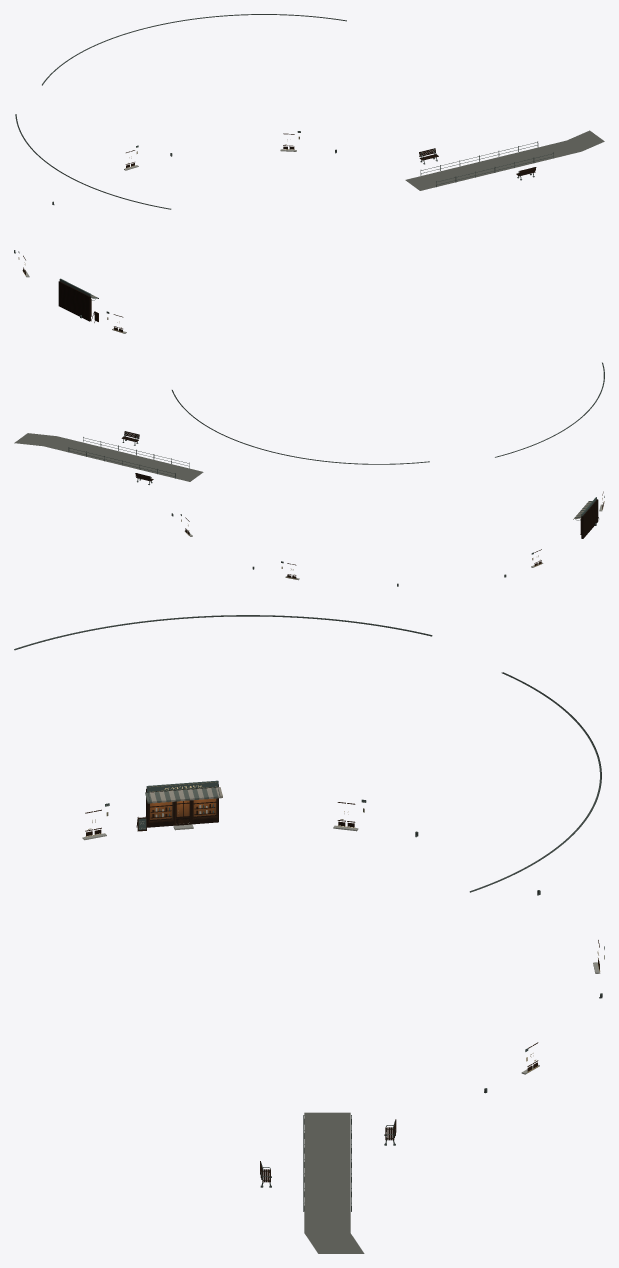
File: surroundings-no-gate.glb
3 views of the same model, one above another, from view 1: azimuth 30°, elevation 25°; view 2: azimuth 150°, elevation 25°; view 3: azimuth 270°, elevation 25° (orthographic). The views are drawn at different scales.
Visible parts, largest first — view 1: Surroundings_Park_Gravel, Building_West_Additions_Timber, Surroundings_Park_Iron, Building_North_Additions_Iron; view 2: Surroundings_Park_Gravel, Surroundings_Park_Iron, Building_North_Additions_Iron, Building_West_Additions_Timber; view 3: Surroundings_Park_Gravel, Building_West_Additions_Timber, Building_West_Additions_Iron, Building_West_Additions_WarmInterior.
Part boxes in pixels (x1,y1,x2,y2): Surroundings_Park_Gravel: [405, 130, 604, 190]; Building_West_Additions_Timber: [24, 271, 98, 322]; Surroundings_Park_Iron: [420, 141, 553, 187]; Building_North_Additions_Iron: [42, 14, 346, 204]; Surroundings_Park_Gravel: [14, 433, 203, 481]; Surroundings_Park_Iron: [68, 431, 189, 484]; Building_North_Additions_Iron: [171, 390, 429, 586]; Building_West_Additions_Timber: [581, 499, 598, 538]; Surroundings_Park_Gravel: [304, 1112, 364, 1253]; Building_West_Additions_Timber: [86, 784, 353, 835]; Building_West_Additions_Iron: [14, 615, 432, 837]; Building_West_Additions_WarmInterior: [150, 798, 216, 819].
Size of the model in its own units: 77.22 by 17.24 by 44.64.
Materials: 12 (3 with a texture image).
